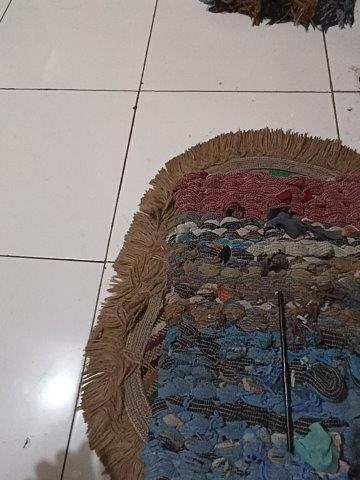sedotan: (278, 292, 295, 452)
